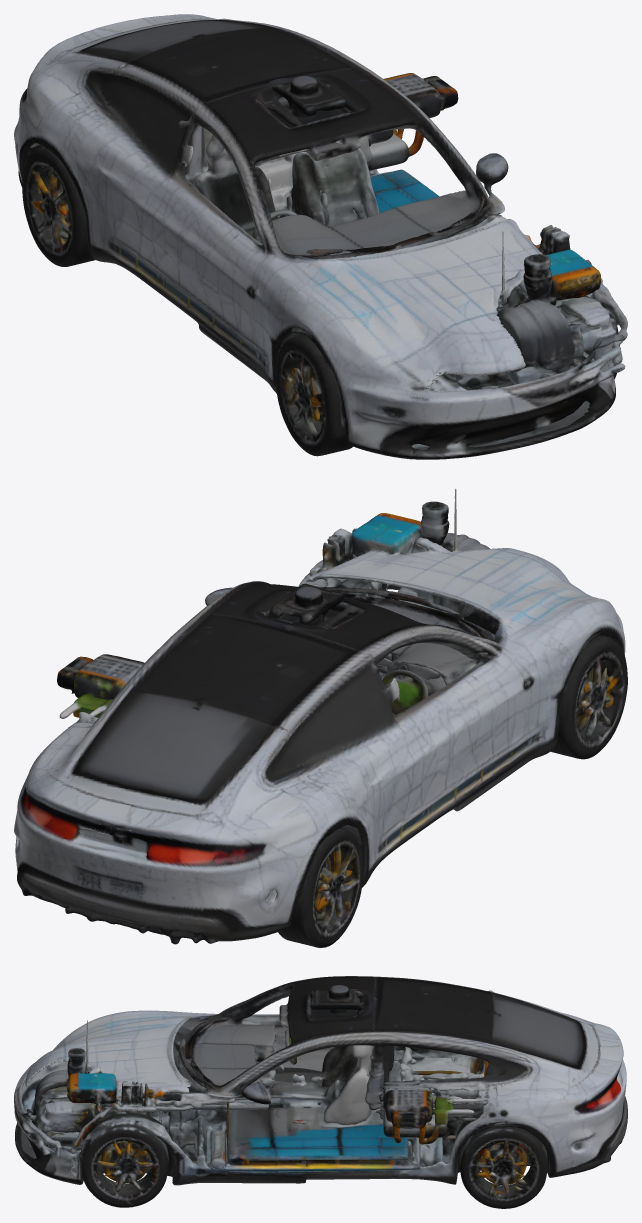
Rendered from electric-car-body.glb.
The picture shows the model from 3 angles, top to bottom: view 1: azimuth 30°, elevation 25°; view 2: azimuth 150°, elevation 25°; view 3: azimuth 270°, elevation 25°; orthographic projection. The views are drawn at different scales.
Visible parts, largest first — view 1: tripo_node_5a688646-ed23-46a6-bf75-64b8aca5b411; view 2: tripo_node_5a688646-ed23-46a6-bf75-64b8aca5b411; view 3: tripo_node_5a688646-ed23-46a6-bf75-64b8aca5b411.
Boxes of the visible parts, x1,y1,x2,y2 form: tripo_node_5a688646-ed23-46a6-bf75-64b8aca5b411: (14, 14, 627, 459); tripo_node_5a688646-ed23-46a6-bf75-64b8aca5b411: (14, 488, 627, 947); tripo_node_5a688646-ed23-46a6-bf75-64b8aca5b411: (14, 976, 627, 1208).
Size of the model in its own units: 0.4637 by 0.3064 by 1.
Materials: 1 (1 with a texture image).
